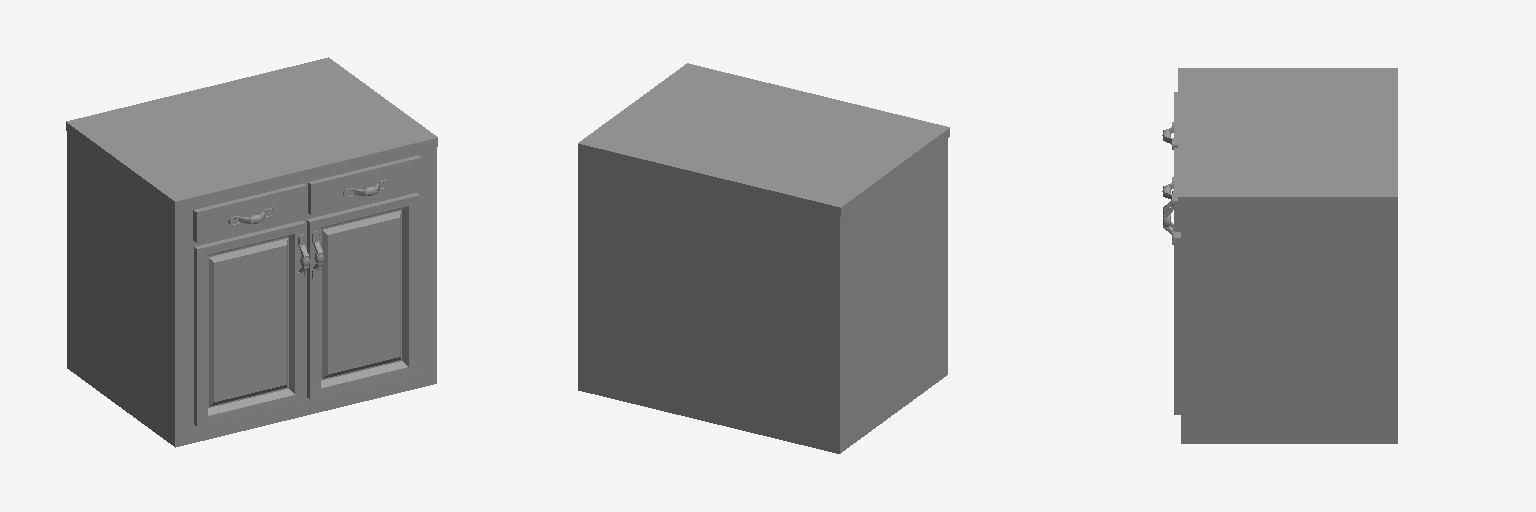
Rendered from 2DoorLowerCabinet.obj.
3 views of the same model, side by side, from view 1: azimuth 30°, elevation 25°; view 2: azimuth 150°, elevation 25°; view 3: azimuth 270°, elevation 25° (orthographic).
Visible parts, largest first — view 1: PolyMesh_4.001, PolyMesh_6.001, PolyMesh_1_3.003, PolyMesh_1.001, Cube_3_2, Cube_3_3.001; view 2: PolyMesh_4.001, PolyMesh_6.001; view 3: PolyMesh_4.001, PolyMesh_6.001, PolyMesh_1_3.003.
Part boxes in pixels (x1,y1,x2,y2): PolyMesh_4.001: (67, 132, 436, 447); PolyMesh_6.001: (66, 57, 437, 210); PolyMesh_1_3.003: (307, 193, 419, 398); PolyMesh_1.001: (194, 221, 305, 426); Cube_3_2: (193, 183, 306, 242); Cube_3_3.001: (308, 155, 420, 214); PolyMesh_4.001: (578, 139, 947, 453); PolyMesh_6.001: (578, 63, 949, 216); PolyMesh_4.001: (1181, 206, 1397, 443); PolyMesh_6.001: (1178, 68, 1397, 205); PolyMesh_1_3.003: (1174, 232, 1180, 414).
Size of the model in its own units: 7.29 by 6.54 by 5.64.